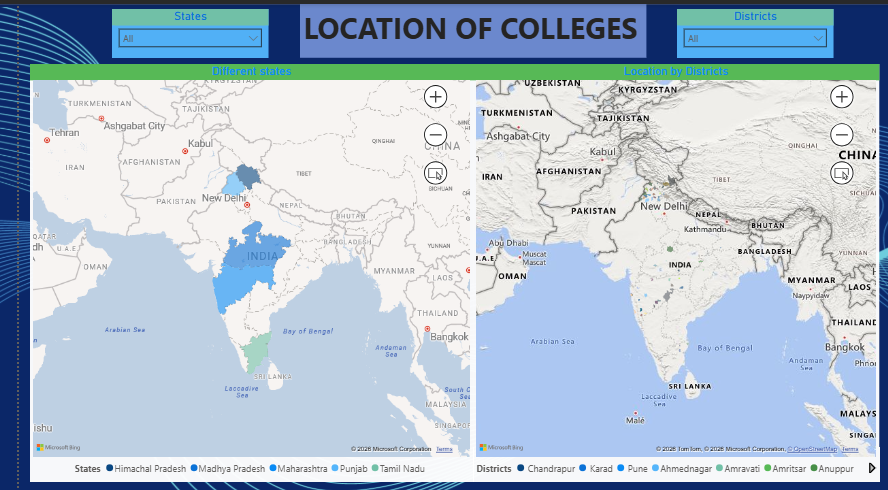

What the dashboard file says about the page in this screenshot:
{"tool":"powerbi","page":{"name":"Location","canvas":[1280,720],"ordinal":1},"visuals":[{"type":"filledMap","title":"Different states","fields":{"Category":["Table1.State"],"Series":["Table1.State"]},"box":[16.3,88.4,651.2,612.8],"z":0},{"type":"textbox","box":[412.8,0,509.3,79.1],"z":1000},{"type":"filledMap","title":"Location by Districts","fields":{"Category":["Table1.District"],"Series":["Table1.District"]},"box":[667.4,88.4,596.5,612.8],"z":2000},{"type":"slicer","title":"Districts","fields":{"Values":["Total Data.District"]},"box":[966.3,7,230.2,72.1],"z":3000},{"type":"slicer","title":"States","fields":{"Values":["Total Data.State"]},"box":[137.2,7,230.2,72.1],"z":4000}]}

Visuals, with their boxes in screenshot pixels (x1, y1, x2, y2), scaled from the page's 1280x720 canvas onto the 888x490 screenshot:
"Different states" filledMap: x1=11 y1=60 x2=463 y2=477
textbox: x1=286 y1=0 x2=640 y2=54
"Location by Districts" filledMap: x1=463 y1=60 x2=877 y2=477
"Districts" slicer: x1=670 y1=5 x2=830 y2=54
"States" slicer: x1=95 y1=5 x2=255 y2=54
